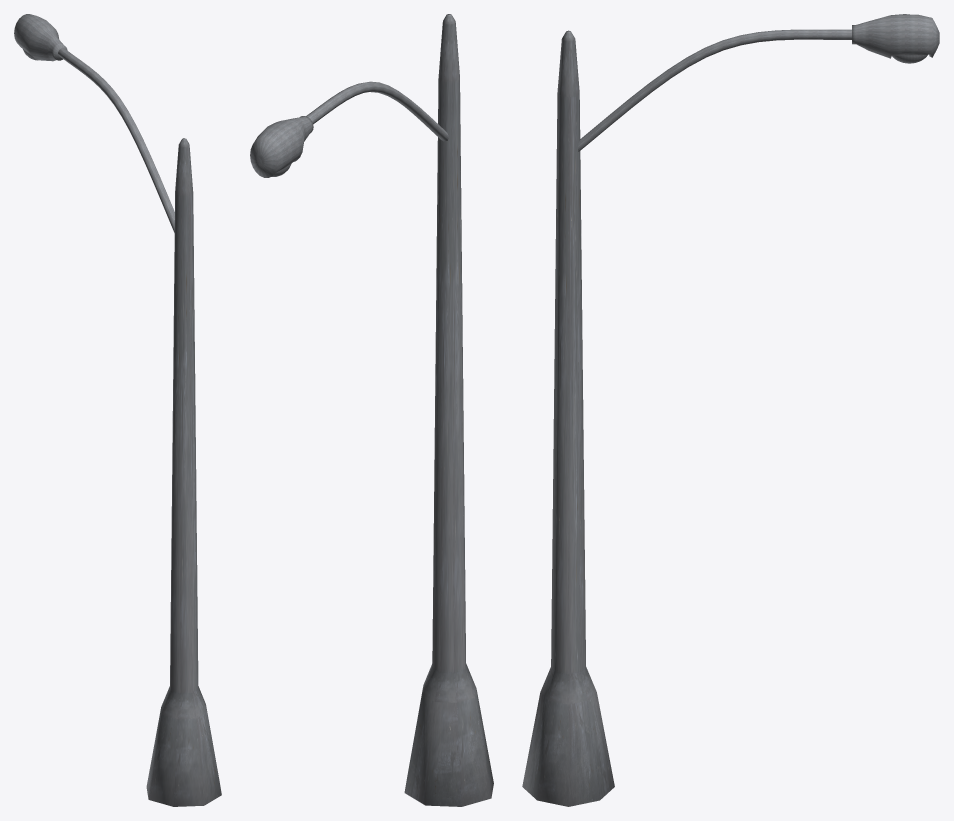
Rendered from light_post.fbx.
3 views of the same model, side by side, from view 1: azimuth 30°, elevation 25°; view 2: azimuth 150°, elevation 25°; view 3: azimuth 270°, elevation 25° (orthographic). The views are drawn at different scales.
Parts seen in each view (by area): view 1: light_post; view 2: light_post; view 3: light_post.
Part boxes in pixels (x1,y1,x2,y2): light_post: (14, 14, 221, 806); light_post: (250, 14, 493, 806); light_post: (522, 14, 939, 806).
Size of the model in its own units: 1.14 by 10.15 by 4.99.
